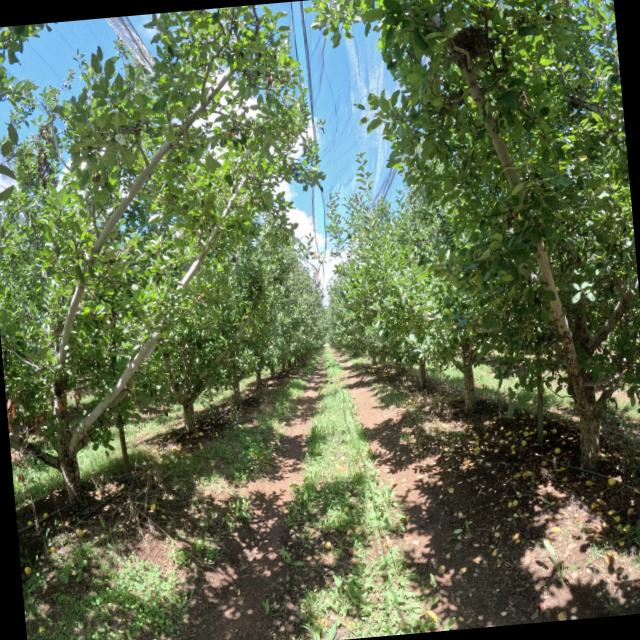-FireBlight-: (12, 446, 28, 484), (5, 394, 18, 438), (65, 389, 86, 410)
